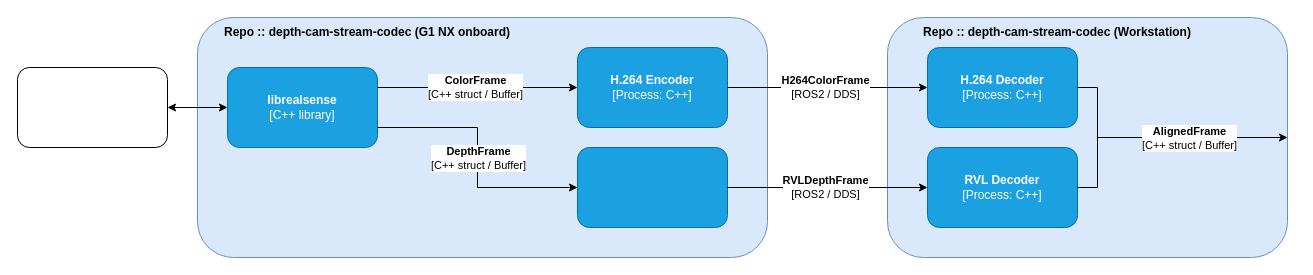
The diagram is 1313 pixels wide and 275 high, and some of its shapes have lost their labels. The shapes that lost their labels are listed below. From the top down, each one's centre as x and y in pixels, then its label:
the point at 92,107: Realsense Camera [Hardware]
the point at 652,187: RVL Encoder [Process: C++]
